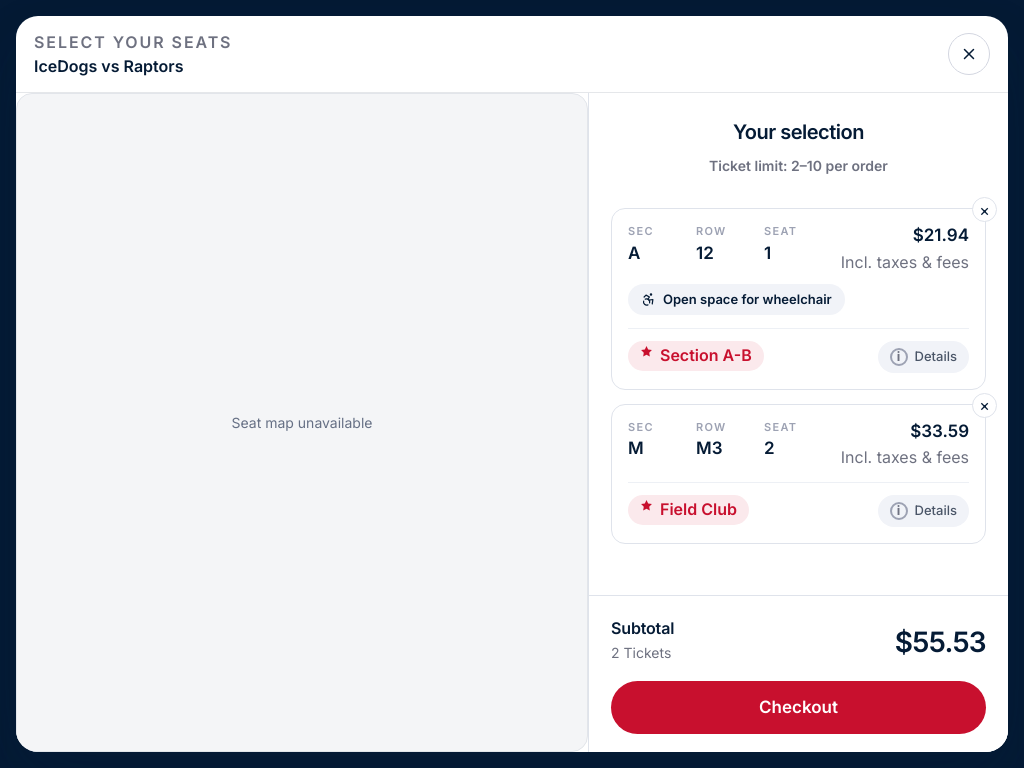
Scenario: SeatMapSelectionOverlay map readiness › badges the accessible seating type on the selection card and in ticket details
Expected: the text "Sec" in the row of "$21.94" is shown, [628,224,654,238]
Expected: the text "Row" in the row of "$21.94" is shown, [696,224,727,238]
Step 1. Click the button "i Details" next to "Section A-B" → (923, 357), box [878,341,969,372]
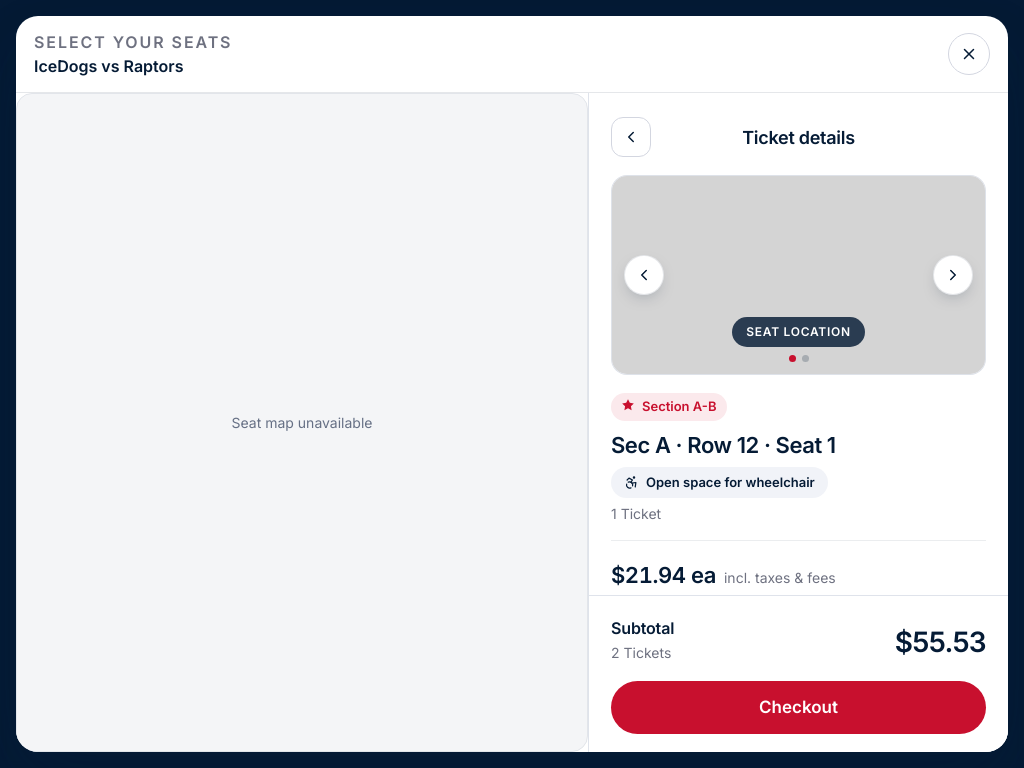
Expected: the text "Open space for wheelchair" is shown, [611,466,828,498]
Expected: the text "Ticket details" is shown, [742,126,855,148]
